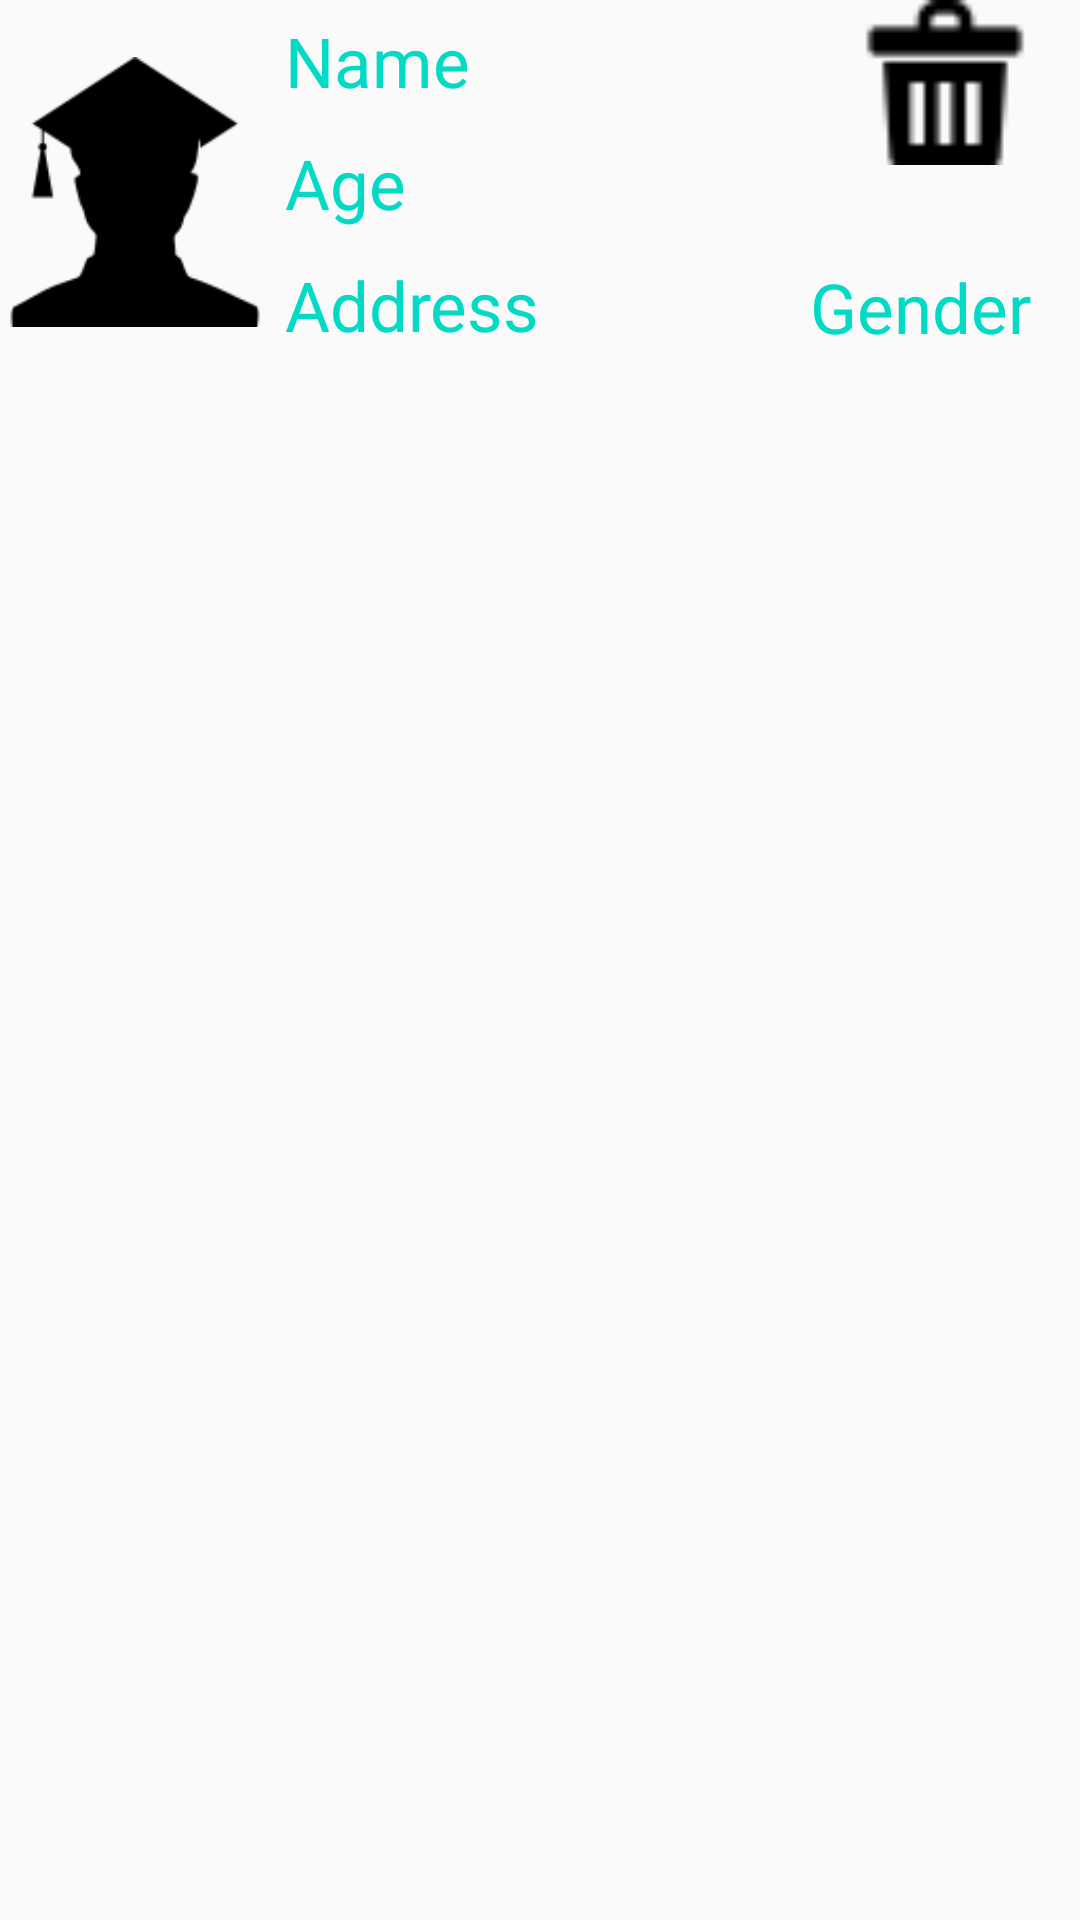

Named icons in this screenshot (1080 × 1920) and their centers, (x=x, y=y):
delete: (x=945, y=82)
male: (x=135, y=192)
